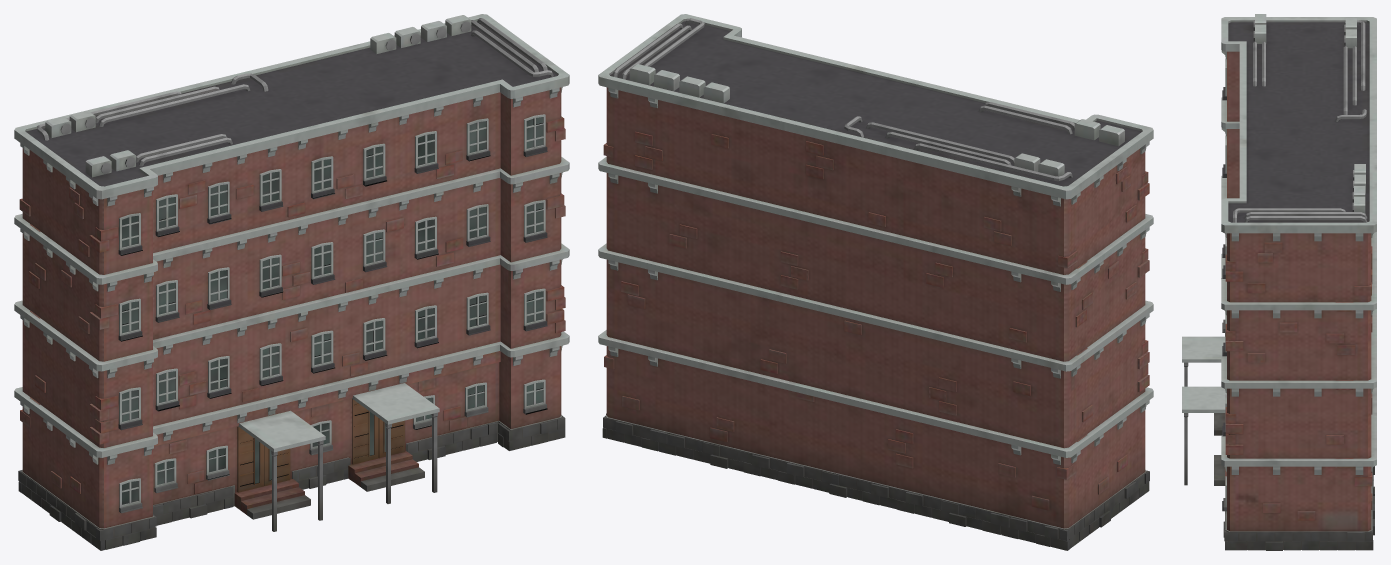
File: building_4Story_Wide_2Doors.glb
3 renders of one model, left to right at view 1: azimuth 30°, elevation 25°; view 2: azimuth 150°, elevation 25°; view 3: azimuth 270°, elevation 25°, orthographic. The views are drawn at different scales.
Parts seen in each view (by area): view 1: 4Story_Wide_2Doors_medium; view 2: 4Story_Wide_2Doors_medium; view 3: 4Story_Wide_2Doors_medium.
Boxes of the visible parts, <box> form: 4Story_Wide_2Doors_medium: <box>14,14,569,550</box>; 4Story_Wide_2Doors_medium: <box>598,14,1153,550</box>; 4Story_Wide_2Doors_medium: <box>1182,14,1376,550</box>.
Bounding box in the file's own units: 6.83 × 5.15 × 2.7.
2 materials, 2 textured.
